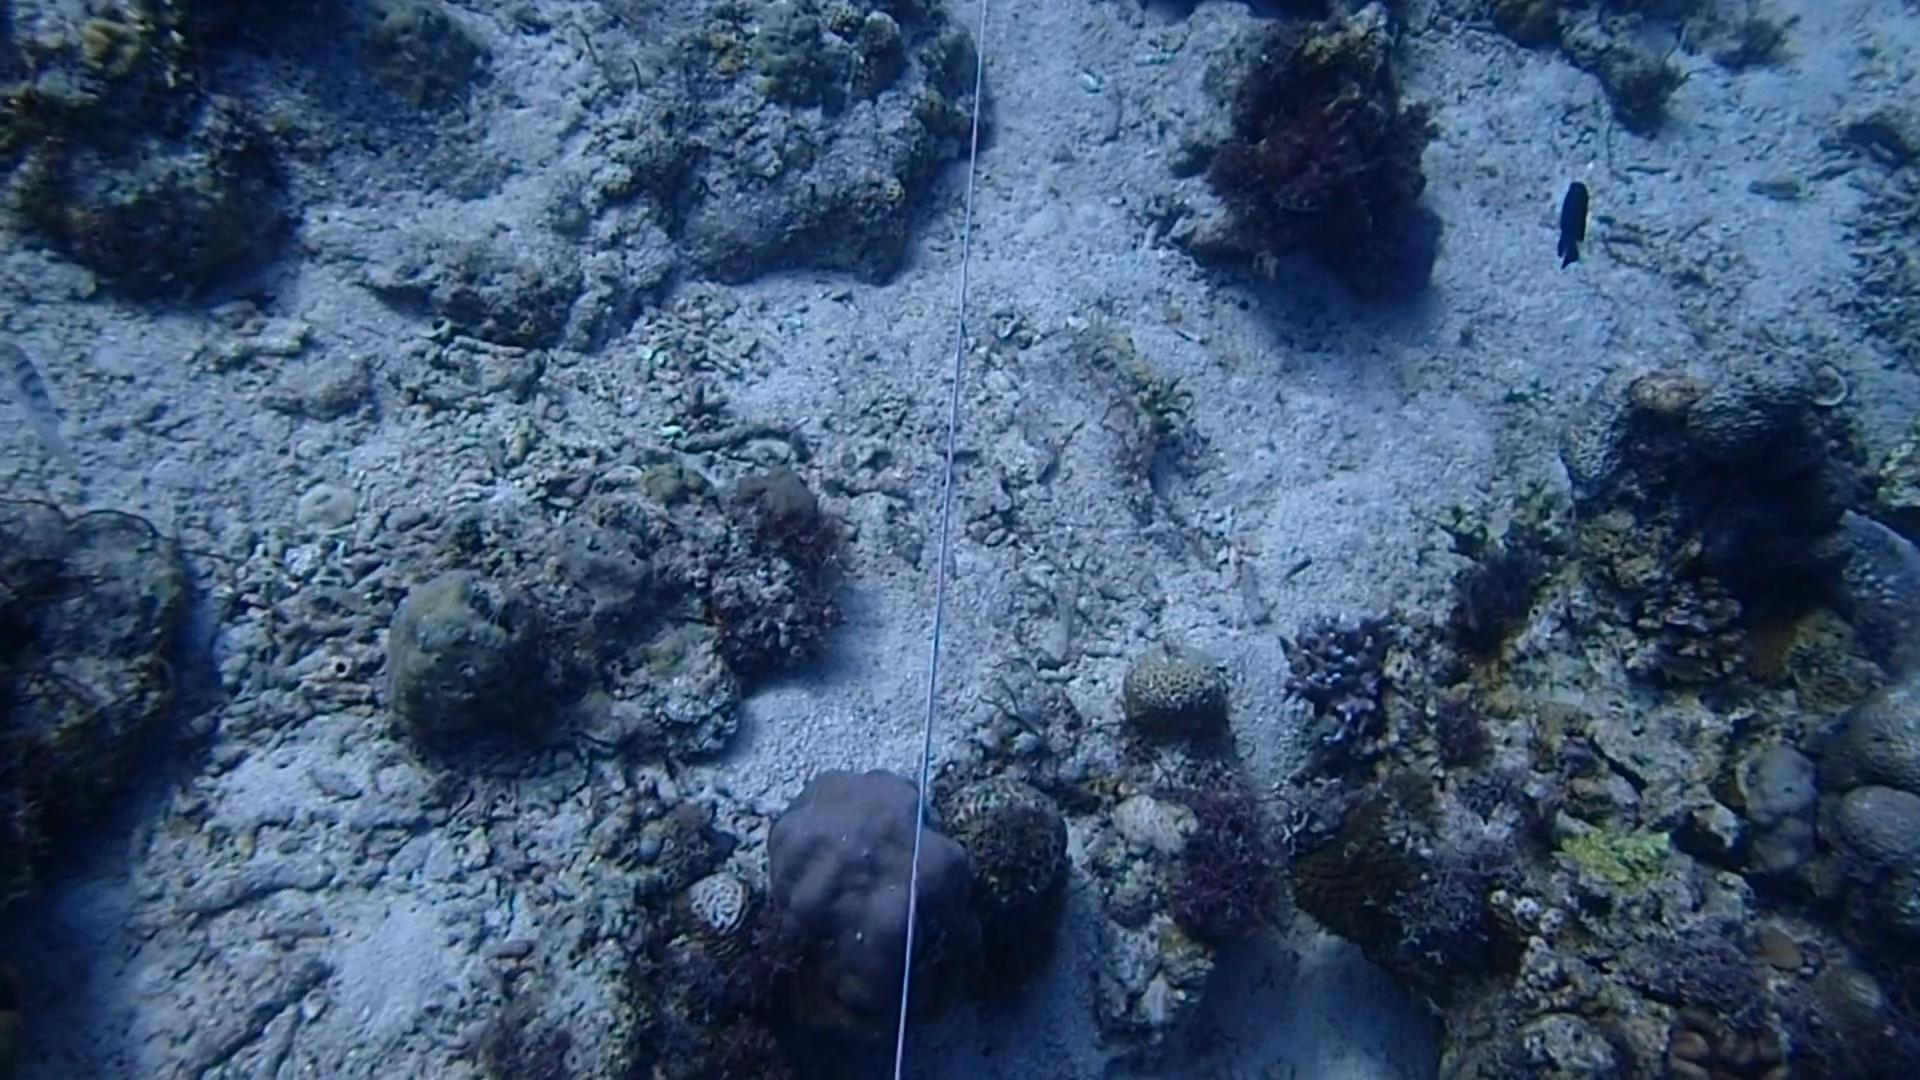Dark Fish: (1547, 174, 1602, 274)
Light Fish w Back Stripes: (0, 326, 76, 473)
